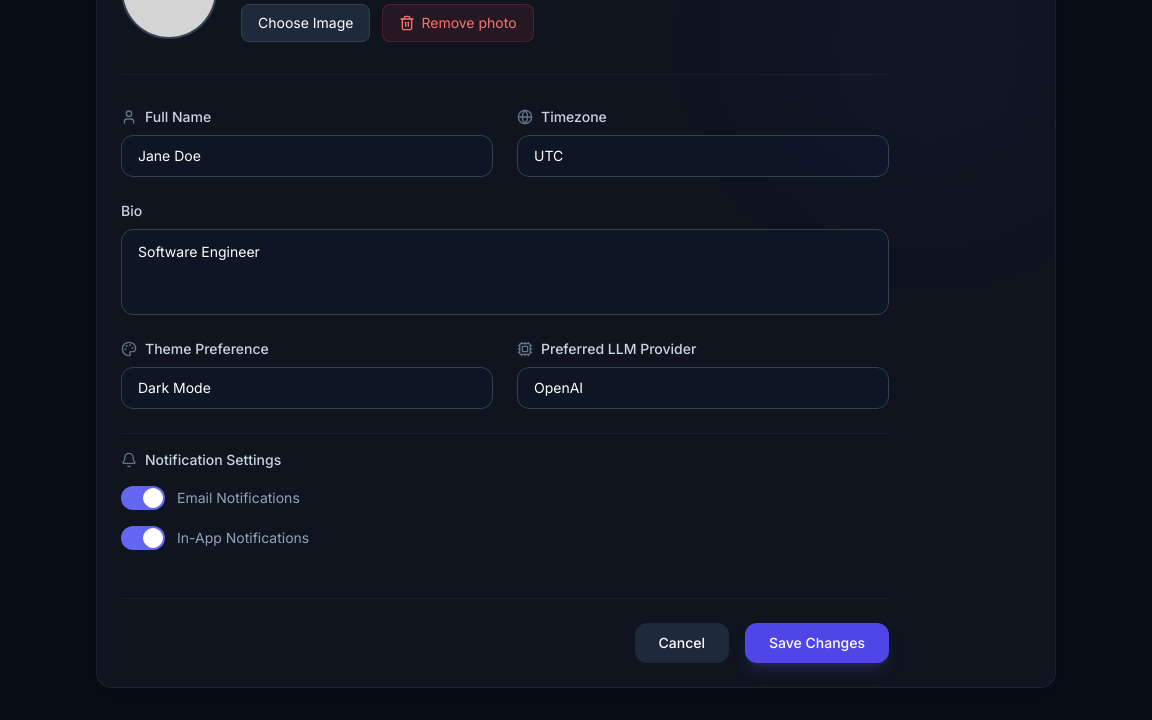
Test: ProfilePage and Photo Update › displays error banner when profile update fails
(page scrolled)
Click the button "Save Changes" at (817, 643), box [745, 623, 889, 663]
(page scrolled)
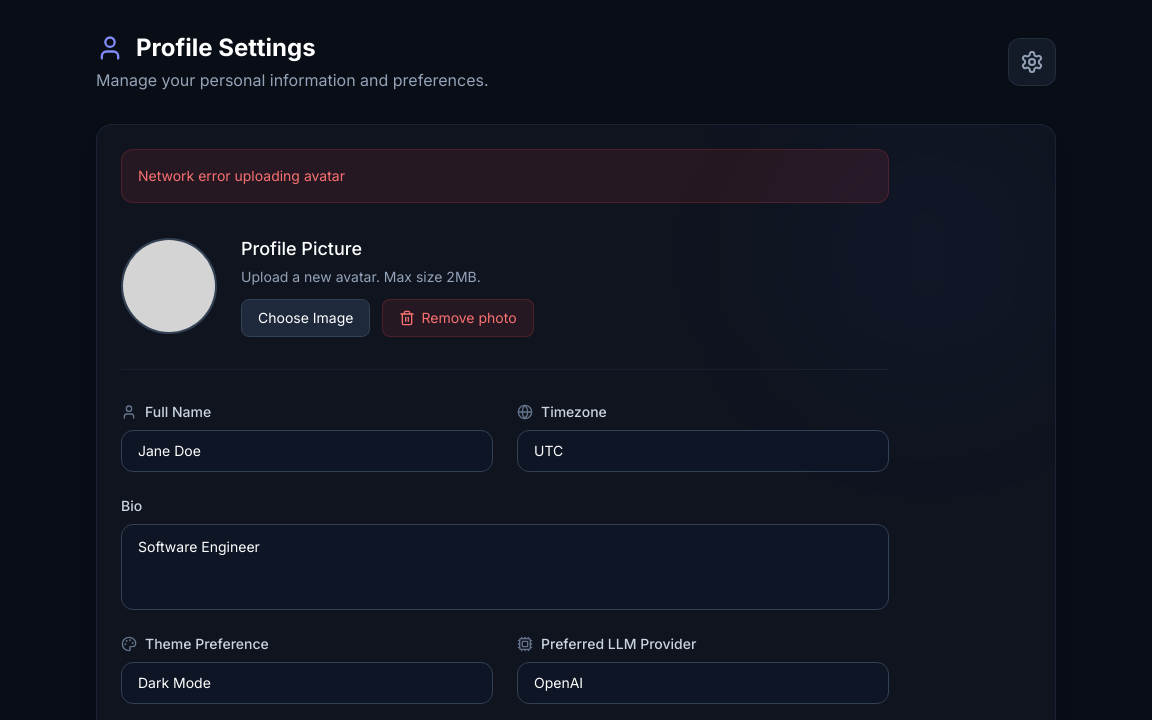
expect the text "Network error uploading avatar" is shown: met, box [121, 149, 889, 203]
